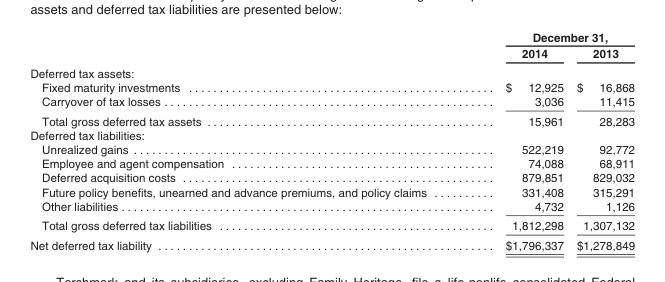table: (29, 29, 634, 251)
table column: (29, 29, 465, 251), (465, 29, 569, 251), (569, 29, 634, 251)
table column header: (29, 29, 634, 63)
table projected row header: (29, 63, 634, 79), (29, 127, 634, 141)
table row: (29, 44, 634, 63), (29, 215, 634, 234), (29, 110, 634, 127), (29, 198, 634, 215), (29, 234, 634, 251), (29, 63, 634, 79), (29, 94, 634, 110), (29, 29, 634, 44), (29, 79, 634, 94), (29, 141, 634, 156), (29, 127, 634, 141), (29, 156, 634, 170), (29, 170, 634, 184), (29, 184, 634, 198)
table spanning cell: (465, 29, 634, 44)
